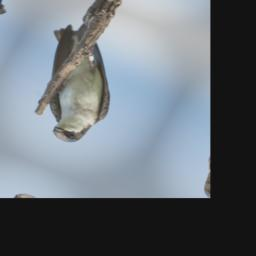Swallow: (3, 14, 146, 151)
